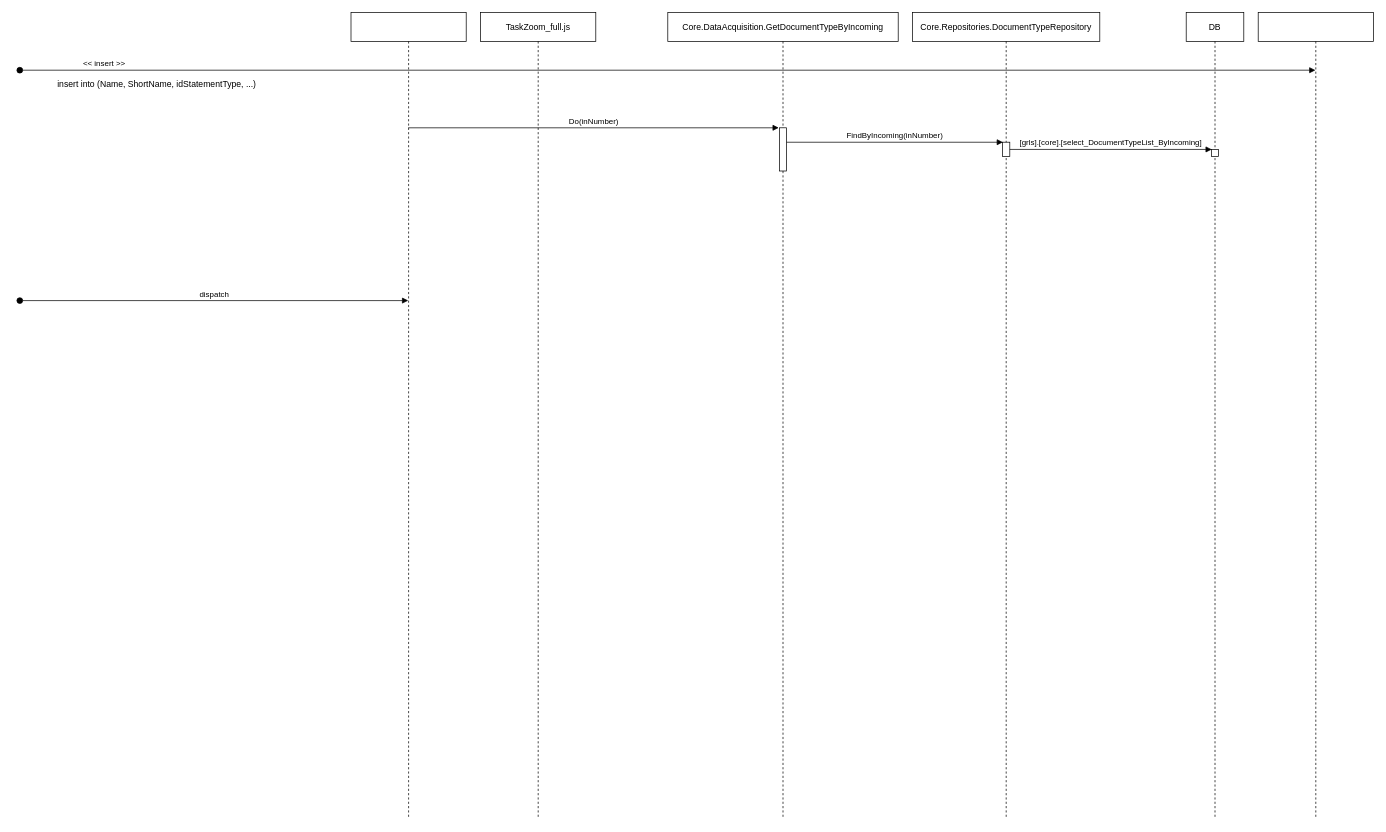
The diagram is 1386 pixels wide and 832 high, and some of its shapes have lost their labels. Here are the shapes that lost their labels. From the top down, the box of each, then its label:
(350, 12, 466, 819): TaskZoom.Page_Load()
(1257, 12, 1373, 819): DocRequestTypeList:DB
